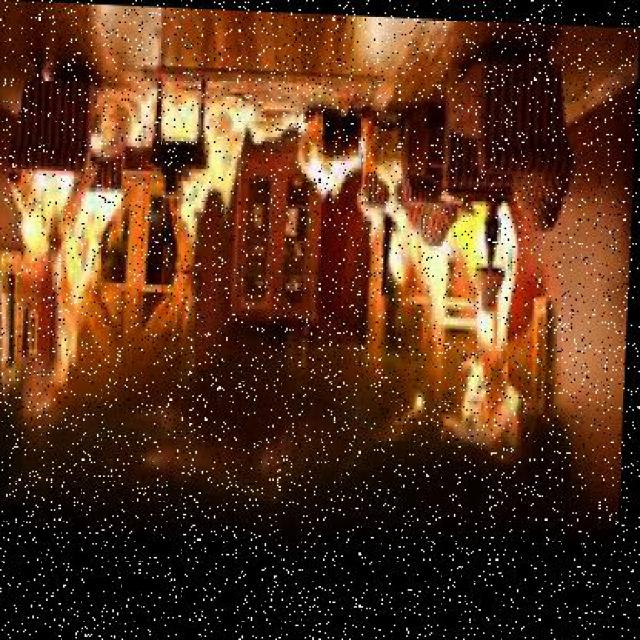fire: (20, 139, 531, 410)
